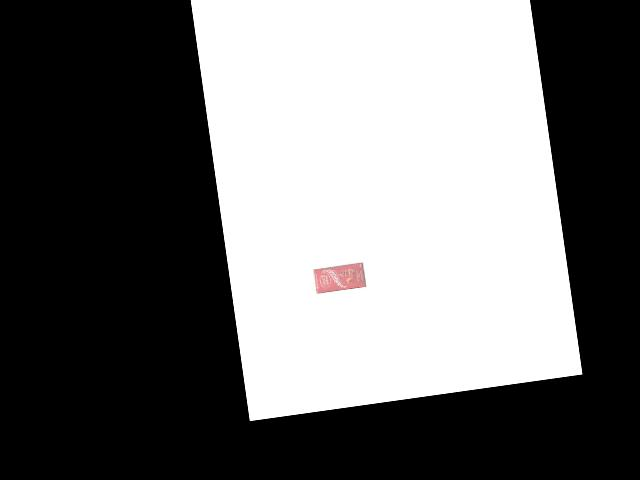chocolate: (311, 260, 370, 294)
